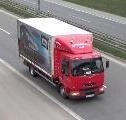truck: (17, 15, 110, 98)
